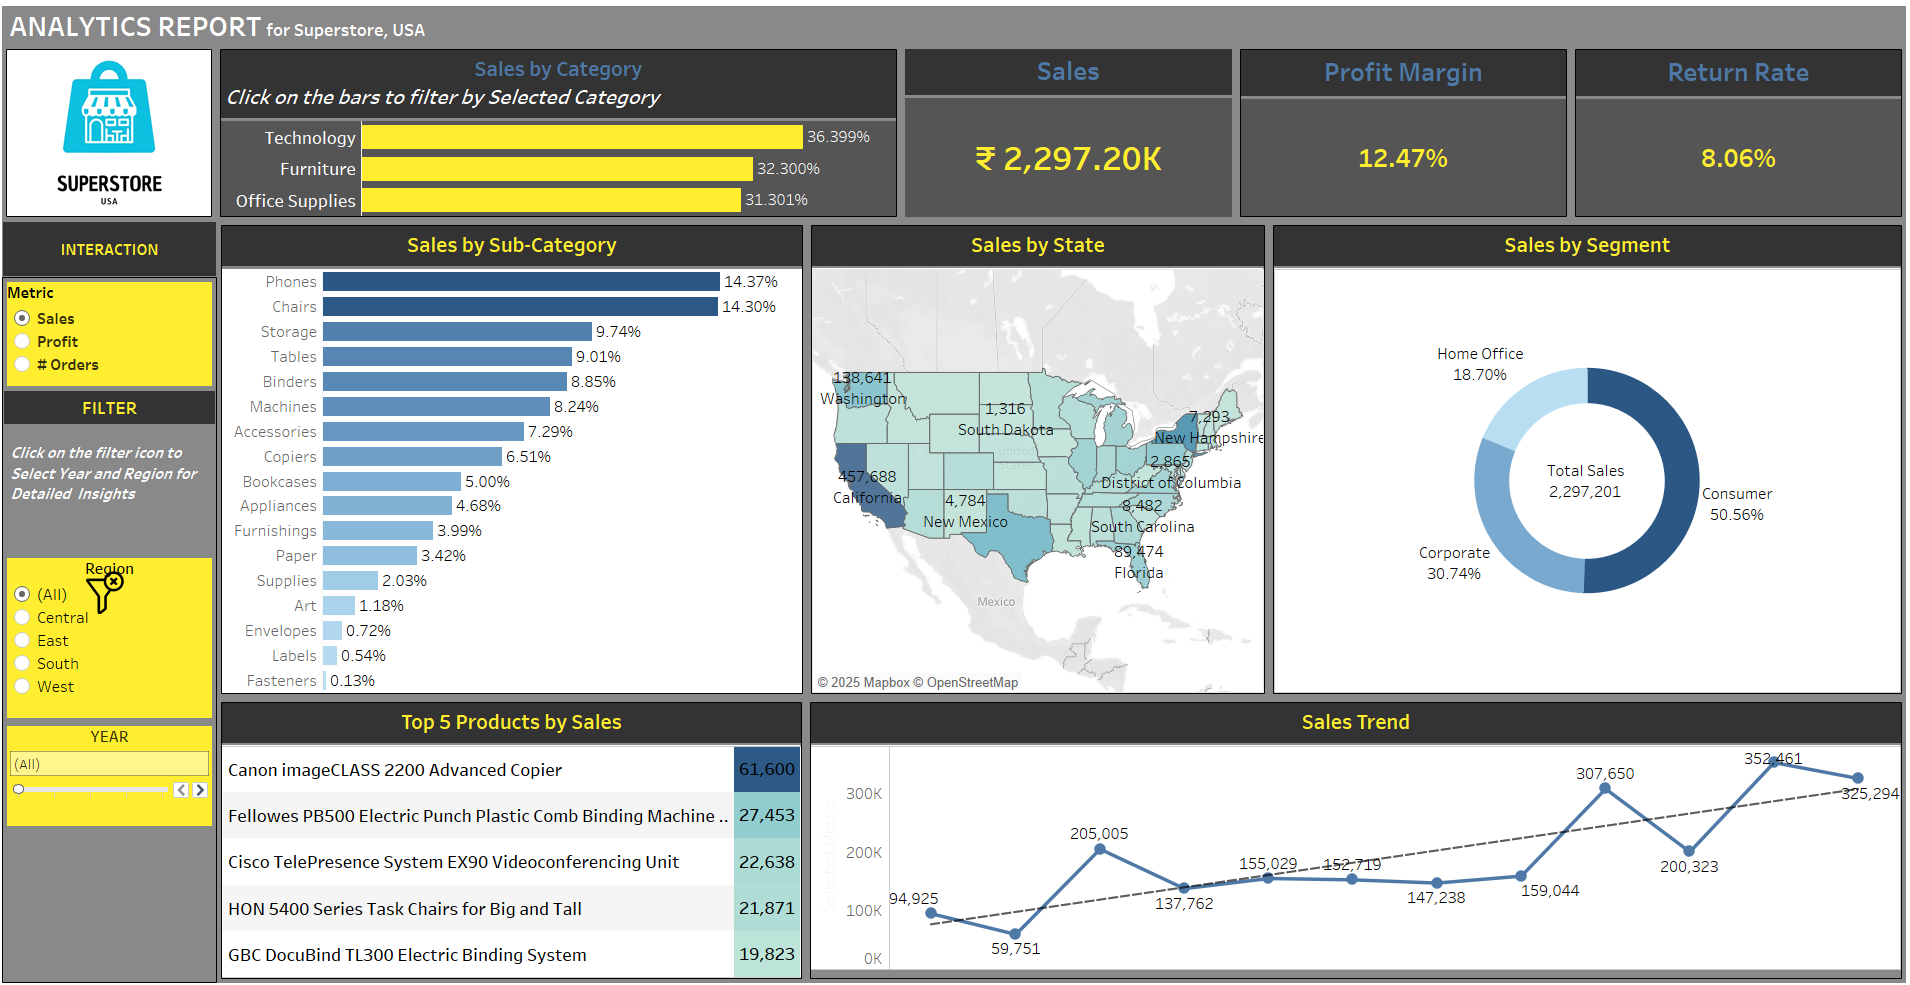

This screenshot's page, from the dashboard's own definition file:
{"tool":"tableau","page":{"name":"Dashboard","canvas":[1000,1000],"units":"permille","ordinal":0},"visuals":[{"type":"text","box":[4.8,10,990.3,39.3]},{"type":"image","param":"Image/Store.png","box":[4.8,49.3,111.4,176.7]},{"type":"worksheet","title":"Category","mark":"Automatic","rows":["Category"],"cols":["Calculation_137359789987192832"],"box":[116.3,49.3,356.1,176.7]},{"type":"worksheet","title":"KPI Sales","mark":"Automatic","box":[472.4,49.3,174.3,176.7]},{"type":"worksheet","title":"KPI Profit_Margin","mark":"Automatic","box":[646.6,49.3,174.3,176.7]},{"type":"worksheet","title":"KPI Return Rate","mark":"Text","box":[820.9,49.3,174.3,176.7]},{"type":"text","box":[4.8,226,111.6,56.2]},{"type":"worksheet","title":"Sub-Category","mark":"Bar","rows":["Sub-Category"],"cols":["Calculation_137359789987192832"],"box":[116.5,226,356.1,478]},{"type":"worksheet","title":"State","mark":"Multipolygon","box":[472.5,226,278.8,478]},{"type":"worksheet","title":"Segment","mark":"Pie","cols":["Calculation_1180787528674283543","Calculation_1180787528674283543"],"box":[751.3,226,243.8,478]},{"type":"parameter","param":"[Parameters].[Parameter 2]","box":[5.4,283.4,110.4,139.8]},{"type":"text","box":[5.4,423.2,110.4,43.7]},{"type":"text","box":[5.4,466.9,110.4,121.1]},{"type":"dashboard-object","box":[46.4,575.5,22.3,44.9]},{"type":"text","box":[5.4,588,110.4,40]},{"type":"filter","title":"Filter","param":"[federated.1crpo541k96oem18d5lx61a0z4k6].[none:Region:nk]","box":[5.4,628,110.4,186]},{"type":"worksheet","title":"Top 5 Products","mark":"Square","rows":["Product Name"],"box":[116.5,704.1,355.5,285.9]},{"type":"worksheet","title":"Month","mark":"Line","rows":["Calculation_137359789987192832","Calculation_137359789987192832"],"cols":["Order Date"],"box":[471.9,704.1,523.2,285.9]},{"type":"filter","title":"Filter","param":"[federated.1crpo541k96oem18d5lx61a0z4k6].[yr:Order Date:ok]","box":[5.4,814,110.4,134.8]},{"type":"worksheet","title":"Filter","mark":"Automatic","box":[5.4,948.8,110.4,40]}]}

Visuals, with their boxes on the dashboard's canvas, which has no fixed pixel size, in thousandths of its width and height (x1, y1, x2, y2). These are canvas units, not pixel positions in the 1910x985 screenshot, which may show the page scaled, cropped or inside an application window:
text: rect(5, 10, 995, 49)
image: rect(5, 49, 116, 226)
"Category" worksheet: rect(116, 49, 472, 226)
"KPI Sales" worksheet: rect(472, 49, 647, 226)
"KPI Profit_Margin" worksheet: rect(647, 49, 821, 226)
"KPI Return Rate" worksheet (Text marks): rect(821, 49, 995, 226)
text: rect(5, 226, 116, 282)
"Sub-Category" worksheet (Bar marks): rect(116, 226, 473, 704)
"State" worksheet (Multipolygon marks): rect(472, 226, 751, 704)
"Segment" worksheet (Pie marks): rect(751, 226, 995, 704)
parameter: rect(5, 283, 116, 423)
text: rect(5, 423, 116, 467)
text: rect(5, 467, 116, 588)
dashboard-object: rect(46, 576, 69, 620)
text: rect(5, 588, 116, 628)
"Filter" filter: rect(5, 628, 116, 814)
"Top 5 Products" worksheet (Square marks): rect(116, 704, 472, 990)
"Month" worksheet (Line marks): rect(472, 704, 995, 990)
"Filter" filter: rect(5, 814, 116, 949)
"Filter" worksheet: rect(5, 949, 116, 989)
